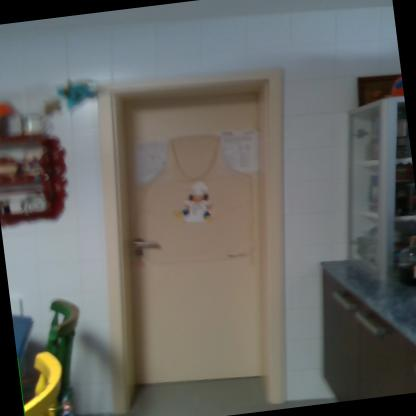closed: (83, 56, 328, 415)
